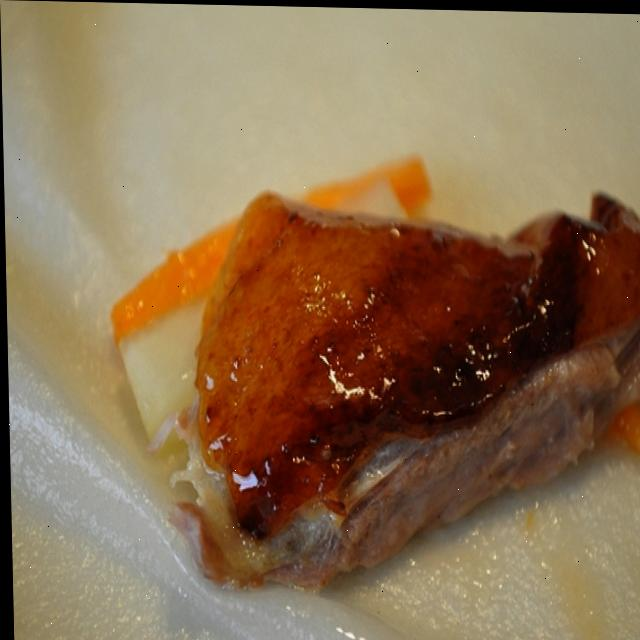烧串烤肉: (101, 95, 640, 627)
